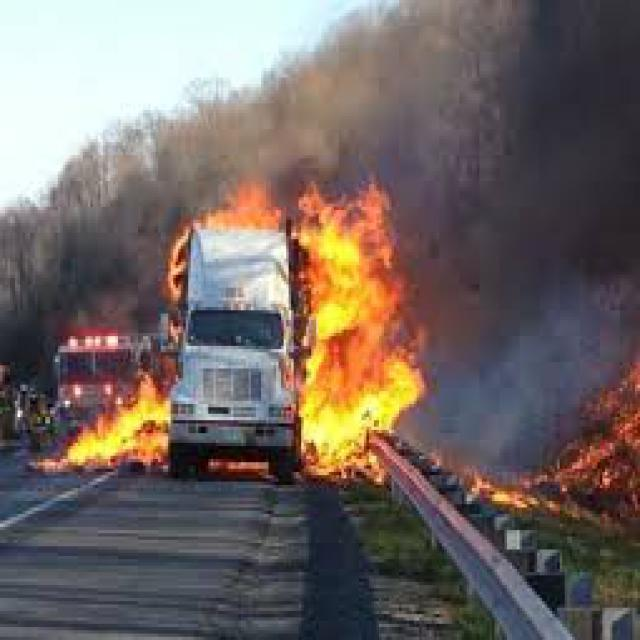Fire: (52, 172, 406, 513)
Smoke: (376, 14, 630, 513), (0, 42, 410, 335)
